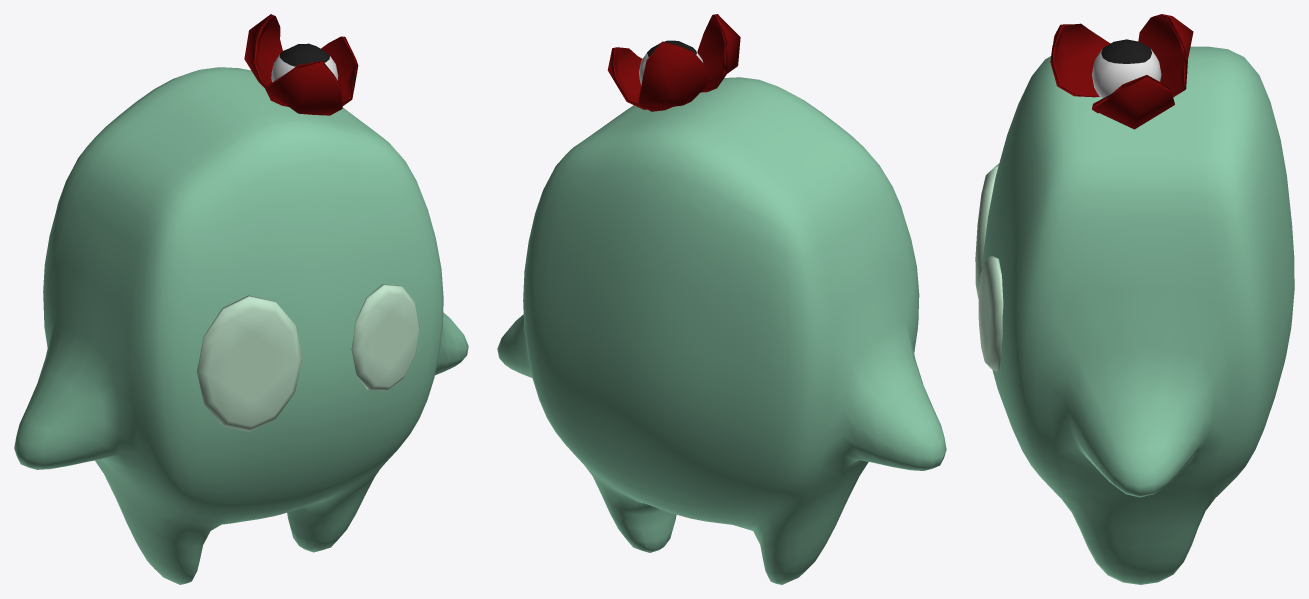
File: Espirito_Guarana.fbx
3 renders of one model, left to right at view 1: azimuth 30°, elevation 25°; view 2: azimuth 150°, elevation 25°; view 3: azimuth 270°, elevation 25°, orthographic. The views are drawn at different scales.
Visible parts, largest first — view 1: pCube32; view 2: pCube32; view 3: pCube32.
Part boxes in pixels (x1,y1,x2,y2): pCube32: [14, 14, 468, 584]; pCube32: [497, 14, 946, 584]; pCube32: [975, 14, 1294, 584].
Size of the model in its own units: 2.23 by 2.52 by 1.31.
